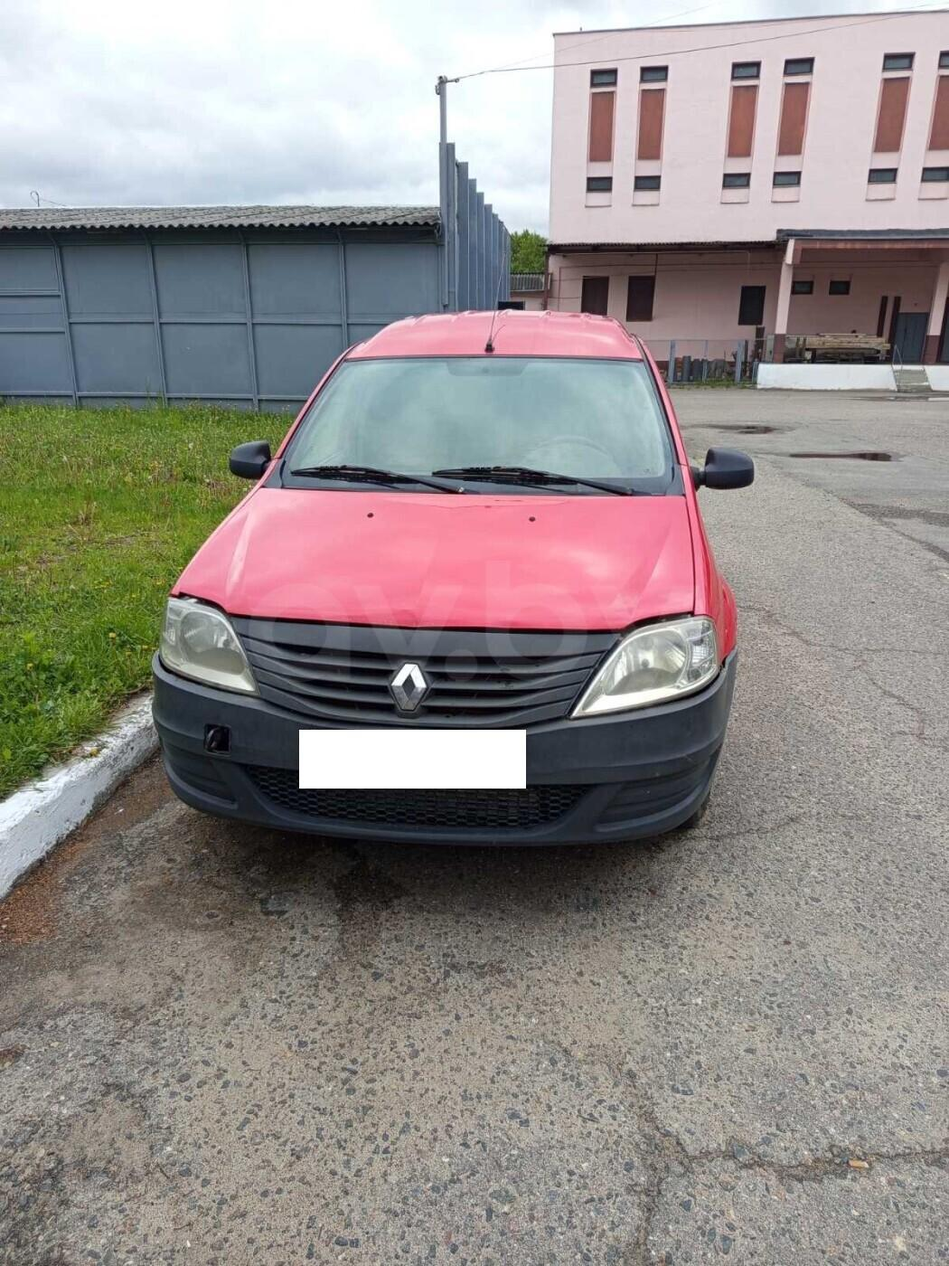Logan_2008-2015: (141, 304, 747, 870)
